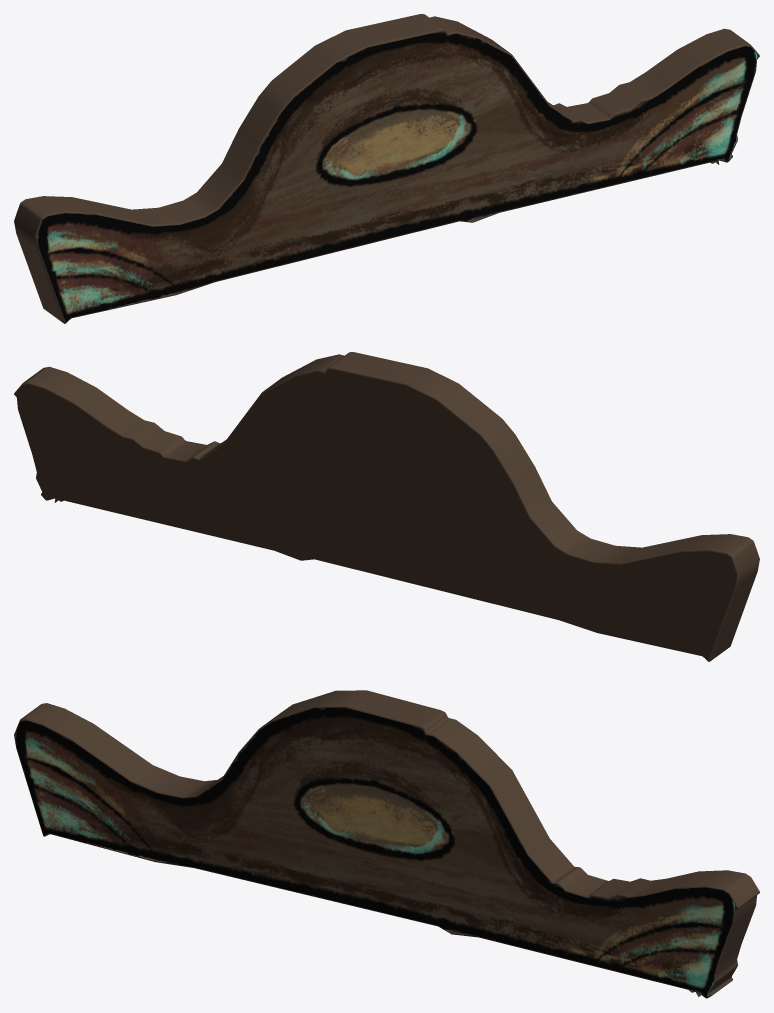
Rendered from HallwayDoorTopDepth.fbx.
3 views of the same model, one above another, from view 1: azimuth 30°, elevation 25°; view 2: azimuth 150°, elevation 25°; view 3: azimuth 330°, elevation 25° (orthographic).
Visible parts, largest first — view 1: HallwayDoorTopDepth; view 2: HallwayDoorTopDepth; view 3: HallwayDoorTopDepth.
Part boxes in pixels (<box>): HallwayDoorTopDepth: <box>14,14,759,323</box>; HallwayDoorTopDepth: <box>14,352,759,661</box>; HallwayDoorTopDepth: <box>14,690,759,998</box>.
Size of the model in its own units: 1.52 by 0.4109 by 0.08.
